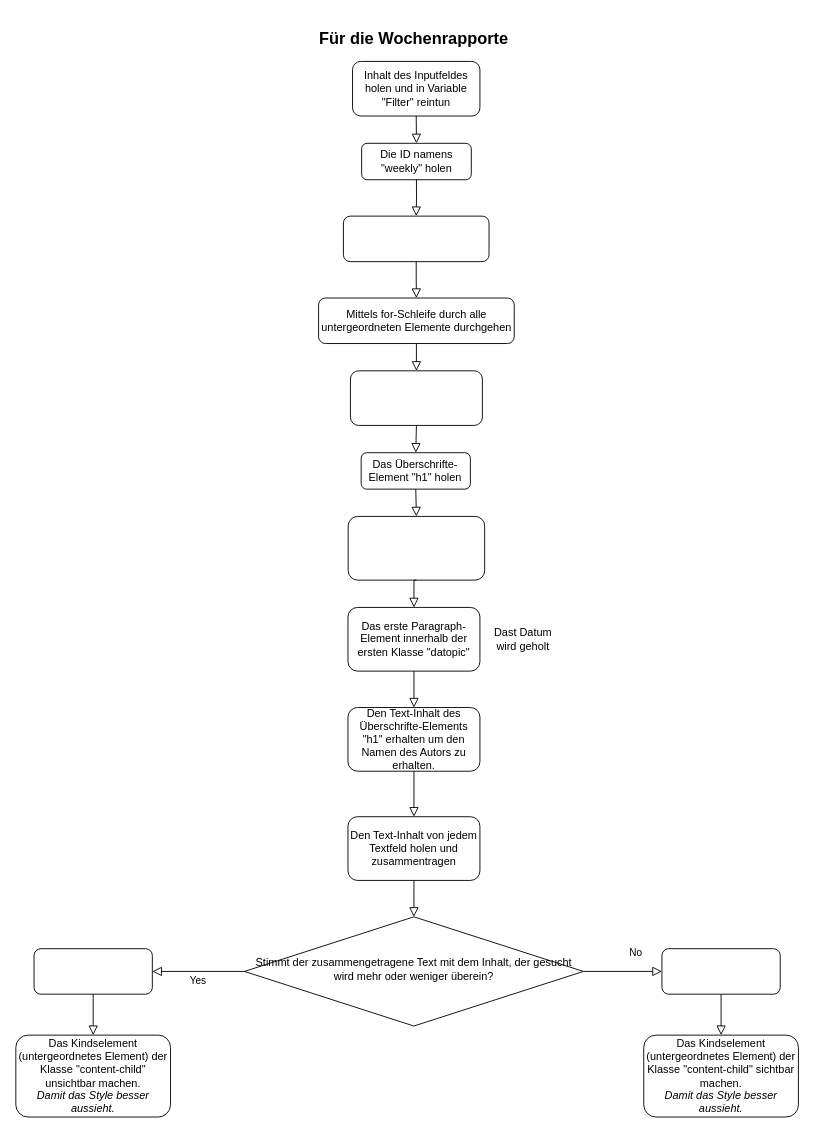
The diagram is 814 pixels wide and 1133 high, and some of its shapes have lost their labels. The shapes that lost their labels are listed below. From the top down, each one's centre as x and y in pixels, then its label:
pixel 416 238: Alle Elemente innerhalb der Klasse "container-child" holen
pixel 416 397: Alle Elemente innerhalb der Klasse "content" holen
pixel 416 548: Alle Textfeld-Element innerhalb der "contentText"-Klasse holen
pixel 92 971: Zeige den entsprechenden Text-Container an
pixel 720 971: Den entsprechenden Text-Container unsichtbar machen
